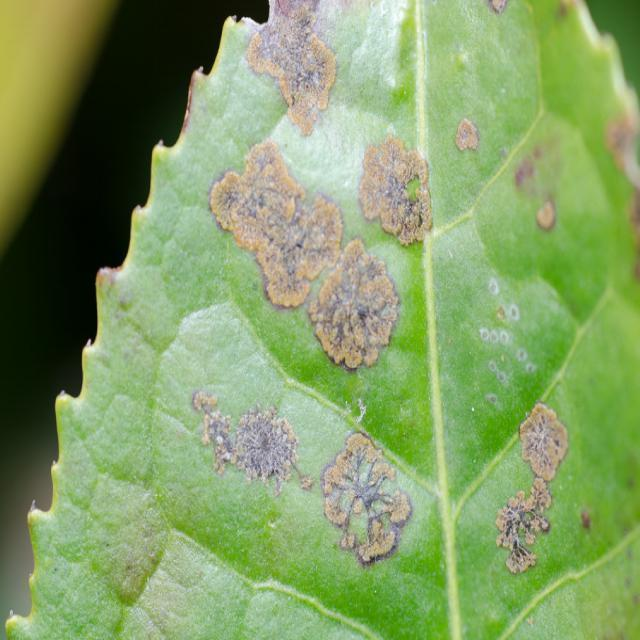Tea red rust: (210, 5, 585, 604)
